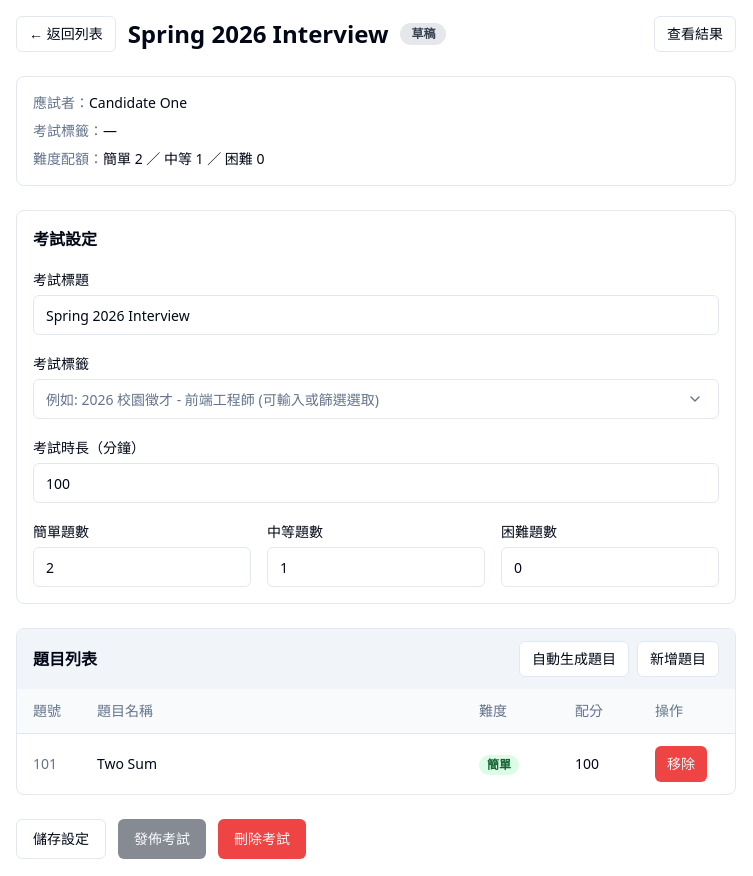
Test: ExamDetailPage › saves edits successfully
expect the heading "Spring 2026 Interview" is shown: met, box x1=128 y1=18 x2=388 y2=50
Replace the text in the field labelled "考試標題" with "Updated Title" at (376, 315), box x1=33 y1=295 x2=719 y2=335
Type "NewTag" into the field labelled "考試標籤".
click(376, 399); type("NewTag")  # box x1=33 y1=379 x2=719 y2=419
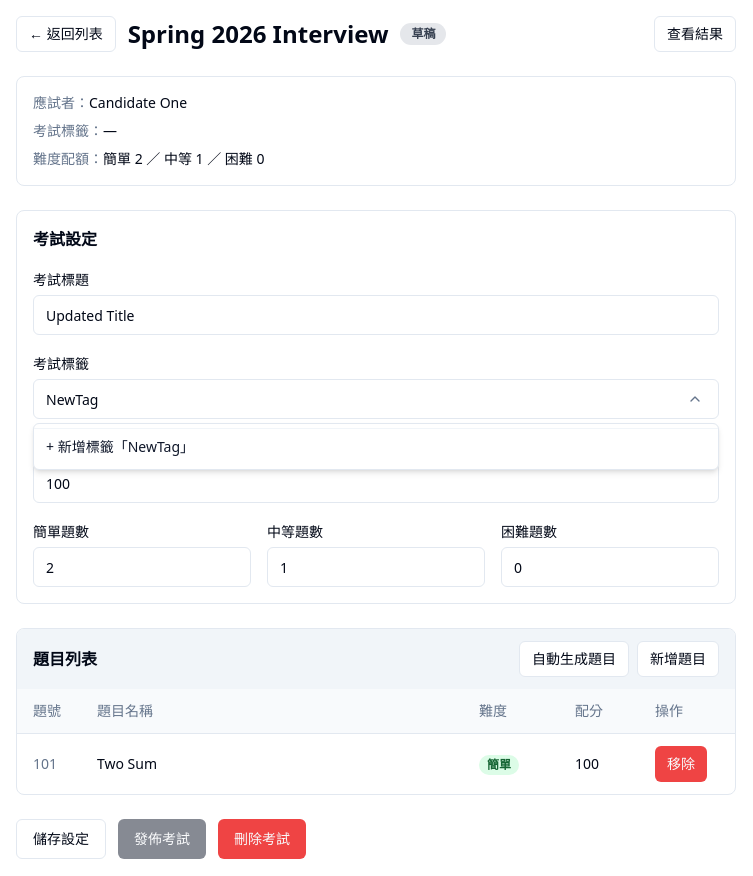
Replace the text in the number field labelled "考試時長（分鐘）" with "150" at (376, 483), box x1=33 y1=463 x2=719 y2=503
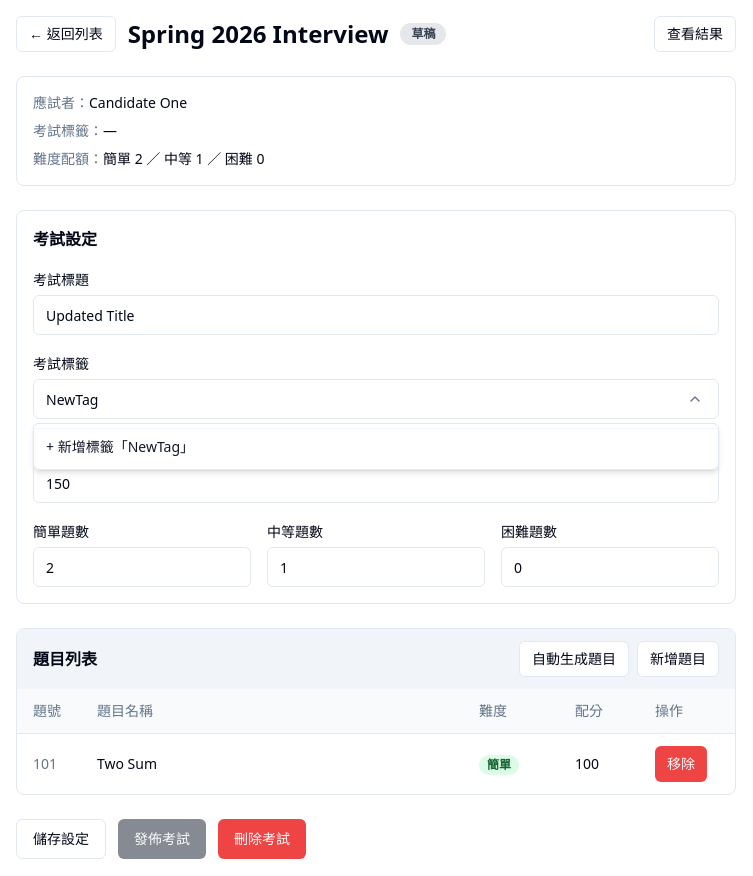
Replace the text in the number field labelled "簡單題數" with "3" at (142, 567), box x1=33 y1=547 x2=251 y2=587
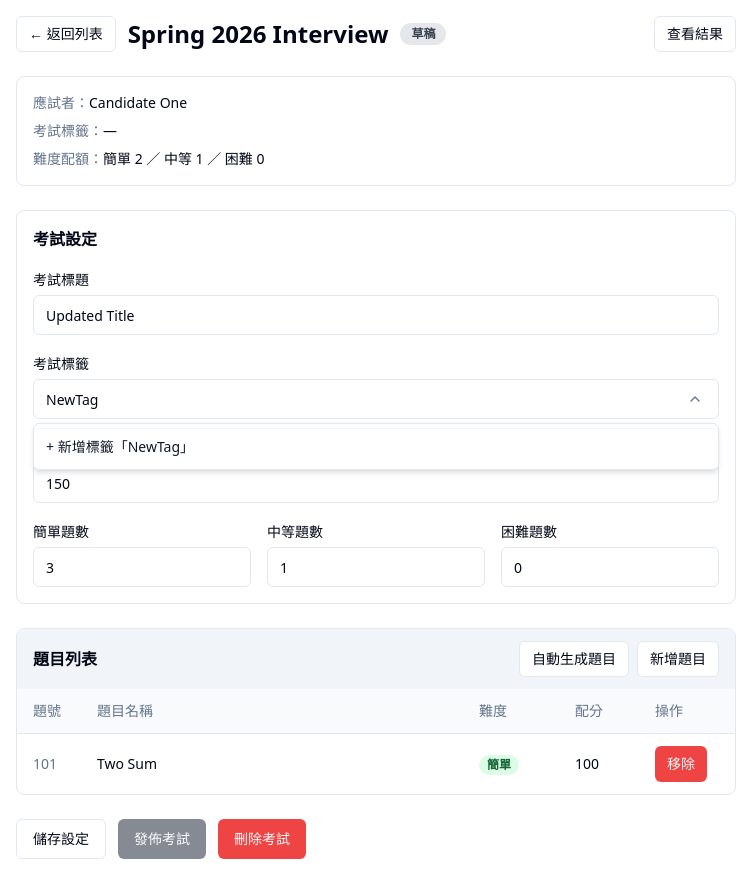
Replace the text in the number field labelled "中等題數" with "2" at (376, 567), box x1=267 y1=547 x2=485 y2=587
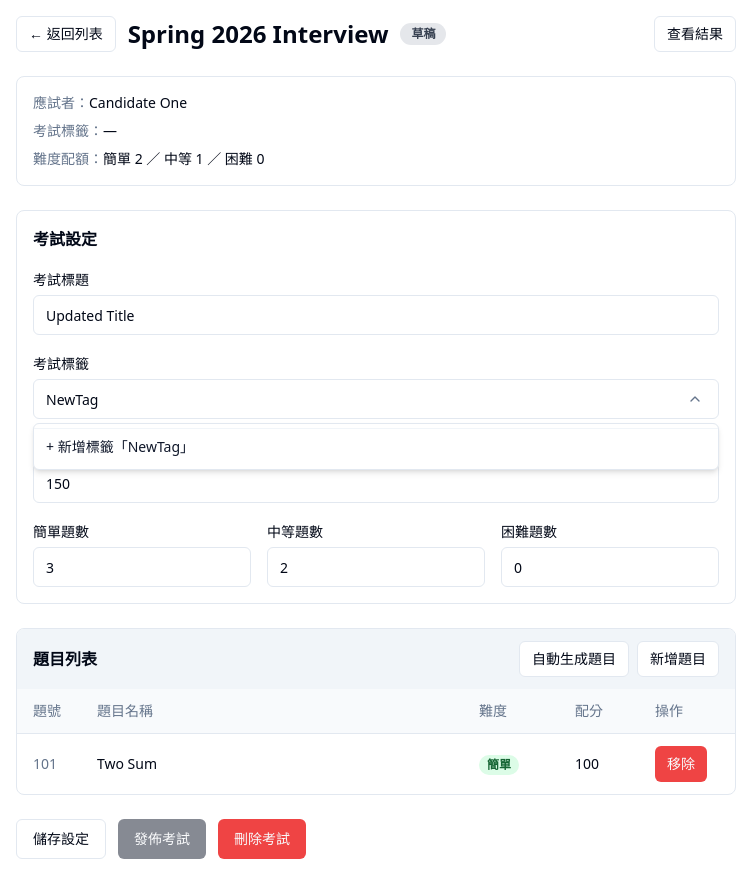
Replace the text in the number field labelled "困難題數" with "1" at (610, 567), box x1=501 y1=547 x2=719 y2=587
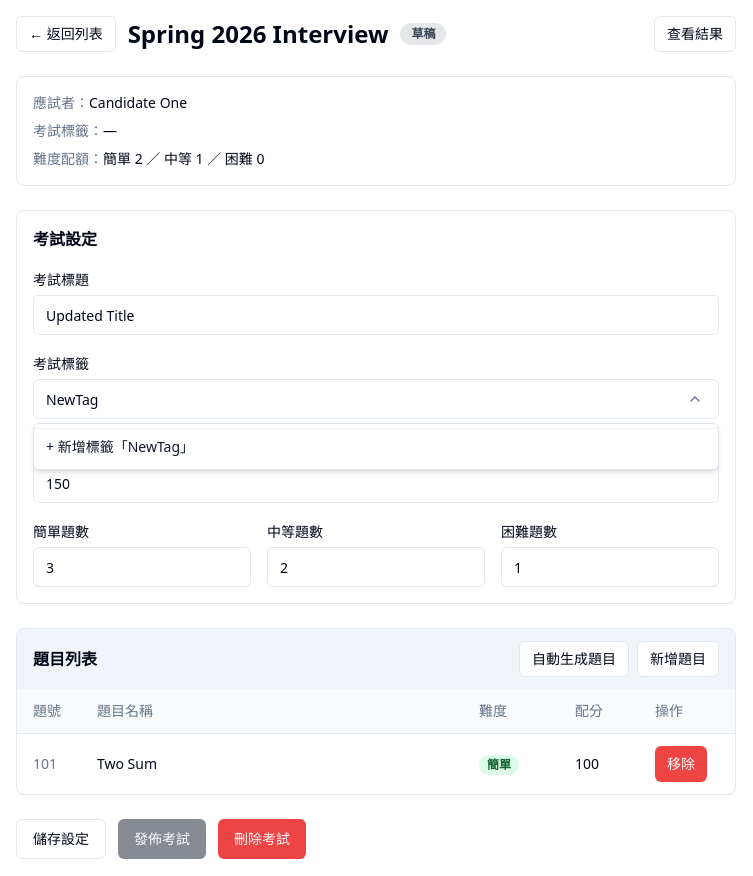
Click the button "儲存設定".
click(61, 839)  # box x1=16 y1=819 x2=106 y2=859
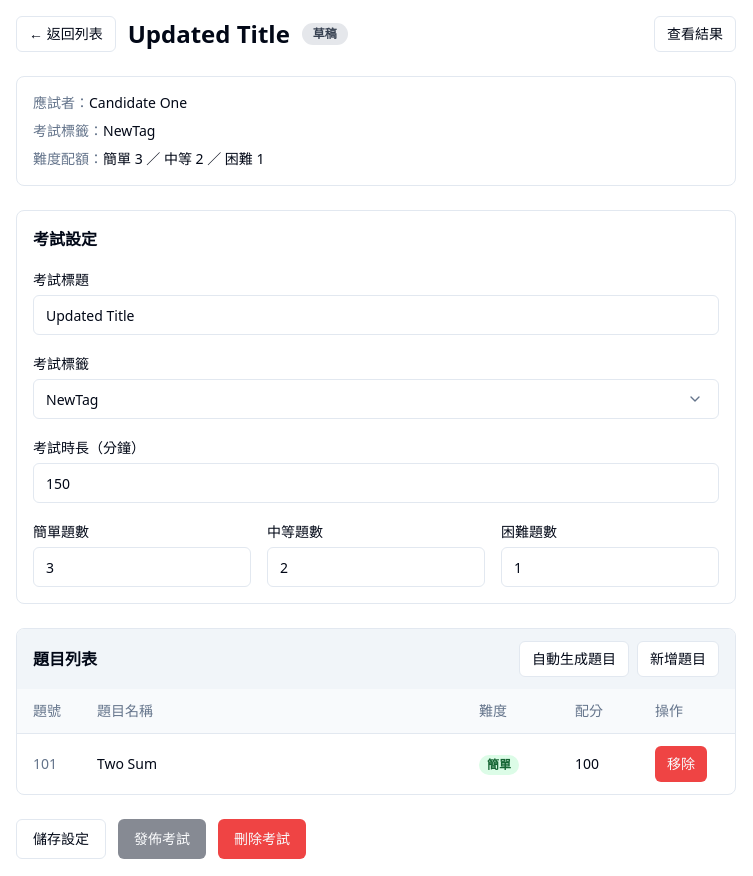
expect the heading "Updated Title" is shown: met, box x1=128 y1=18 x2=290 y2=50
expect the text "簡單 3 ／ 中等 2 ／ 困難 1" is shown: met, box x1=103 y1=149 x2=264 y2=168
